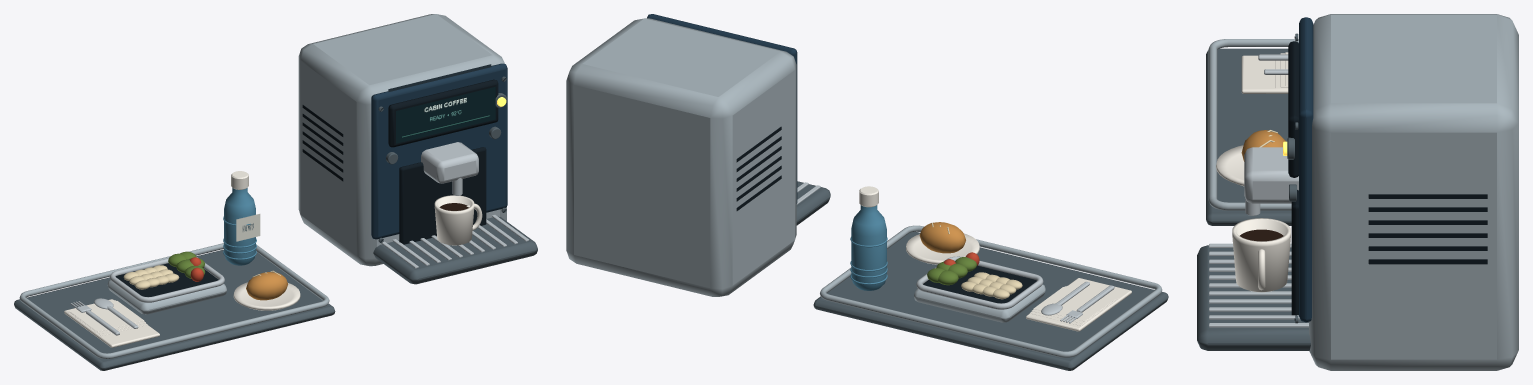
Rendered from meals.glb.
3 views of the same model, side by side, from view 1: azimuth 30°, elevation 25°; view 2: azimuth 150°, elevation 25°; view 3: azimuth 270°, elevation 25° (orthographic). The views are drawn at different scales.
Visible parts, largest first — view 1: Static / Brushed aluminum.002, Static / Gunmetal fasteners.004, Static / Navy polymer.003, Static / Rubber seals.004, Static / Polished steel.003, Static / Porcelain / paper.004, Static / Emissive instrument displays.002, Static / Water blue, Static / Embedded instrument / placard atlas.004, Static / Baked bread, Static / Rice cream, Static / Salad greens; view 2: Static / Brushed aluminum.002, Static / Gunmetal fasteners.004, Static / Porcelain / paper.004, Static / Water blue, Static / Polished steel.003, Static / Rubber seals.004, Static / Navy polymer.003, Static / Baked bread, Static / Rice cream, Static / Salad greens; view 3: Static / Brushed aluminum.002, Static / Gunmetal fasteners.004, Static / Polished steel.003, Static / Porcelain / paper.004, Static / Rubber seals.004, Static / Navy polymer.003, Static / Baked bread, Static / Coffee.
Boxes of the visible parts, x1,y1,x2,y2 form: Static / Brushed aluminum.002: [19, 14, 506, 358]; Static / Gunmetal fasteners.004: [14, 76, 537, 370]; Static / Navy polymer.003: [371, 63, 507, 239]; Static / Rubber seals.004: [115, 77, 506, 296]; Static / Polished steel.003: [70, 142, 528, 335]; Static / Porcelain / paper.004: [64, 171, 482, 347]; Static / Emissive instrument displays.002: [396, 87, 495, 143]; Static / Water blue: [223, 188, 256, 265]; Static / Embedded instrument / placard atlas.004: [236, 64, 491, 241]; Static / Baked bread: [246, 272, 287, 300]; Static / Rice cream: [123, 265, 280, 289]; Static / Salad greens: [168, 251, 205, 278]; Static / Brushed aluminum.002: [566, 18, 1162, 357]; Static / Gunmetal fasteners.004: [796, 181, 1168, 370]; Static / Porcelain / paper.004: [859, 186, 1131, 331]; Static / Water blue: [850, 205, 887, 290]; Static / Polished steel.003: [796, 182, 1114, 323]; Static / Rubber seals.004: [736, 126, 1036, 303]; Static / Navy polymer.003: [647, 14, 797, 203]; Static / Baked bread: [919, 222, 965, 253]; Static / Rice cream: [931, 222, 1022, 299]; Static / Salad greens: [927, 257, 976, 285]; Static / Brushed aluminum.002: [1208, 14, 1518, 370]; Static / Gunmetal fasteners.004: [1197, 33, 1310, 350]; Static / Polished steel.003: [1209, 54, 1308, 327]; Static / Porcelain / paper.004: [1216, 52, 1290, 292]; Static / Rubber seals.004: [1288, 36, 1487, 320]; Static / Navy polymer.003: [1299, 17, 1313, 322]; Static / Baked bread: [1241, 130, 1285, 161]; Static / Coffee: [1240, 229, 1283, 241].
Size of the model in its own units: 1.22 by 0.4715 by 0.5135.
15 materials, 2 textured.
